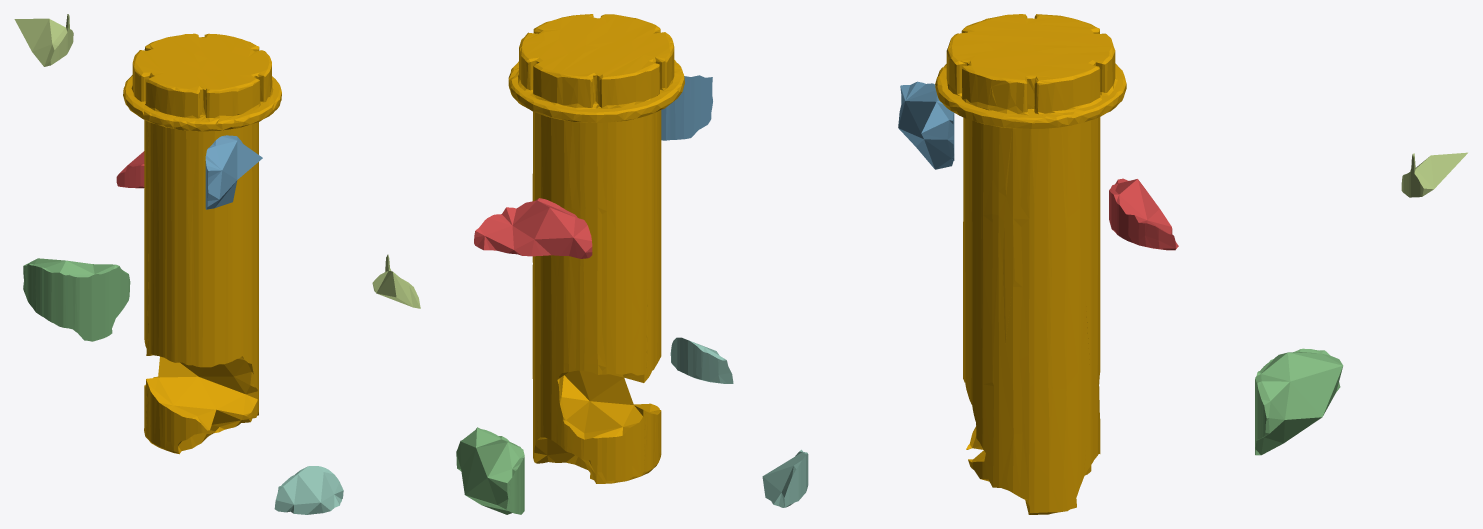
The model's file is mode_19_6pcs_transformed.glb.
3 views of the same model, side by side, from view 1: azimuth 30°, elevation 25°; view 2: azimuth 150°, elevation 25°; view 3: azimuth 270°, elevation 25° (orthographic). The views are drawn at different scales.
Parts seen in each view (by area): view 1: piece_0.obj, piece_3.obj, piece_2.obj, piece_4.obj, piece_5.obj, piece_1.obj; view 2: piece_0.obj, piece_1.obj, piece_3.obj, piece_2.obj, piece_4.obj, piece_5.obj; view 3: piece_0.obj, piece_3.obj, piece_2.obj, piece_1.obj, piece_4.obj, piece_5.obj.
Boxes of the visible parts, x1,y1,x2,y2 form: piece_0.obj: (123,33,281,454); piece_3.obj: (23,258,130,341); piece_2.obj: (205,135,262,209); piece_4.obj: (274,466,343,514); piece_5.obj: (14,14,73,66); piece_1.obj: (116,151,144,188); piece_0.obj: (508,14,684,483); piece_1.obj: (474,198,592,258); piece_3.obj: (456,427,524,514); piece_2.obj: (661,75,712,140); piece_4.obj: (670,337,733,383); piece_5.obj: (372,254,420,308); piece_0.obj: (935,14,1126,514); piece_3.obj: (1255,348,1343,455); piece_2.obj: (898,81,954,169); piece_1.obj: (1109,178,1178,250); piece_4.obj: (762,449,808,507); piece_5.obj: (1401,152,1467,197).
Bounding box in the file's own units: 0.3863 × 0.9999 × 1.45.
